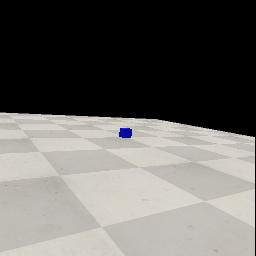box: (119, 128, 132, 138)
